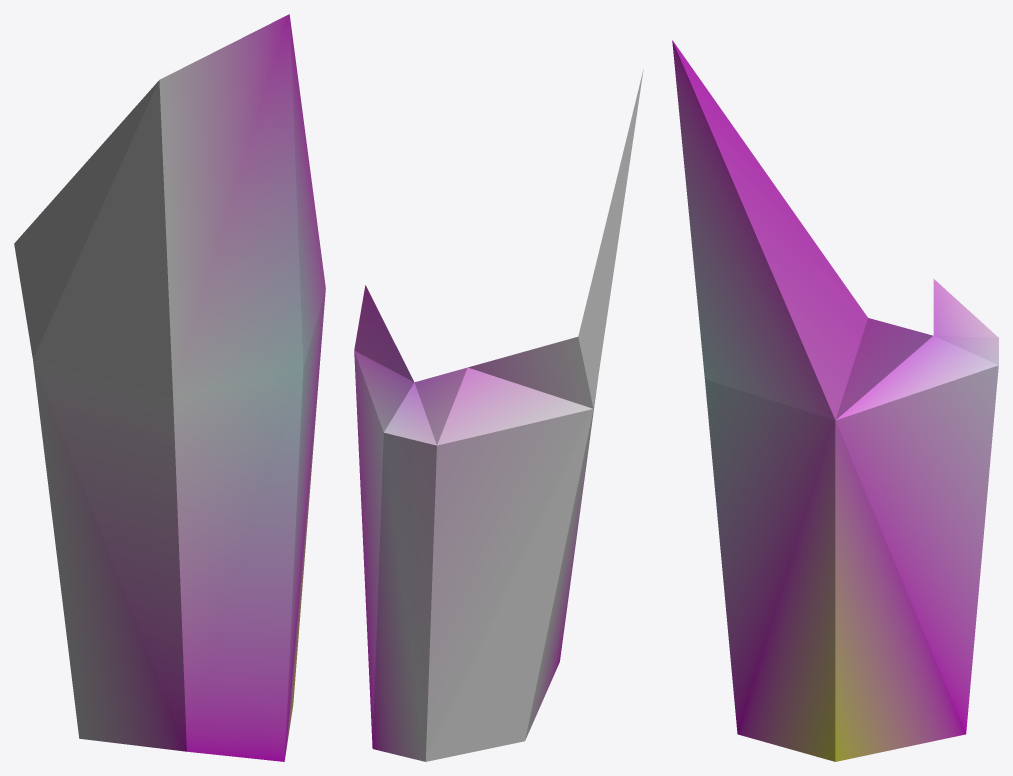
3 views of the same model, side by side, from view 1: azimuth 30°, elevation 25°; view 2: azimuth 150°, elevation 25°; view 3: azimuth 270°, elevation 25° (orthographic). The views are drawn at different scales.
Visible parts, largest first — view 1: model_1174; view 2: model_1174; view 3: model_1174.
Boxes of the visible parts, x1=… form: model_1174: x1=14, y1=14, x2=325, y2=761; model_1174: x1=354, y1=69, x2=643, y2=761; model_1174: x1=672, y1=40, x2=998, y2=761.
Size of the model in its own units: 9 by 23 by 10.
